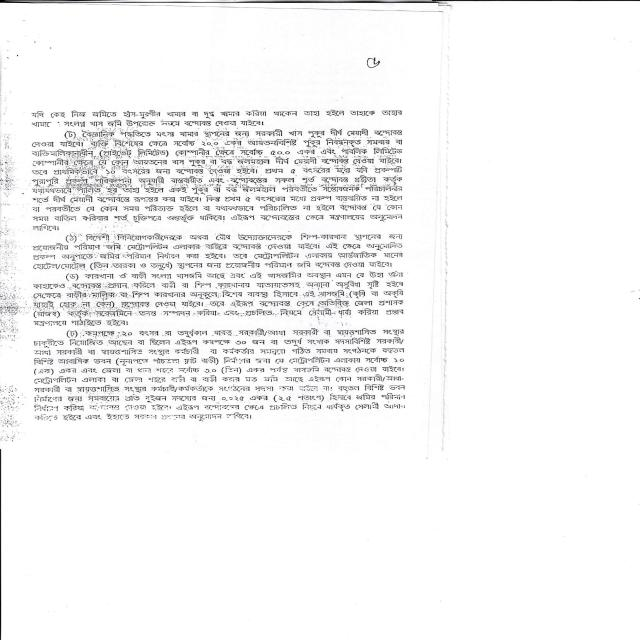page number: (362, 55, 384, 71)
paragraph: (30, 128, 404, 232), (33, 328, 406, 422), (32, 271, 404, 327), (30, 233, 404, 271), (30, 109, 402, 129)
